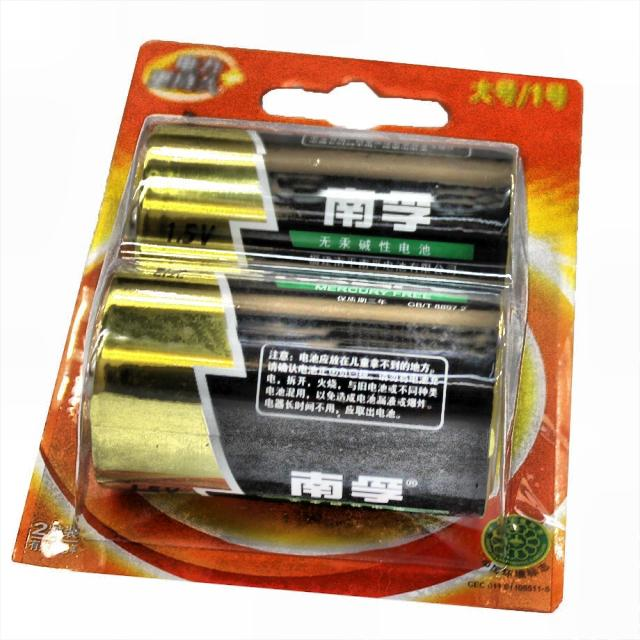Non-Valuable Waste - Batteries: (78, 115, 528, 524)
